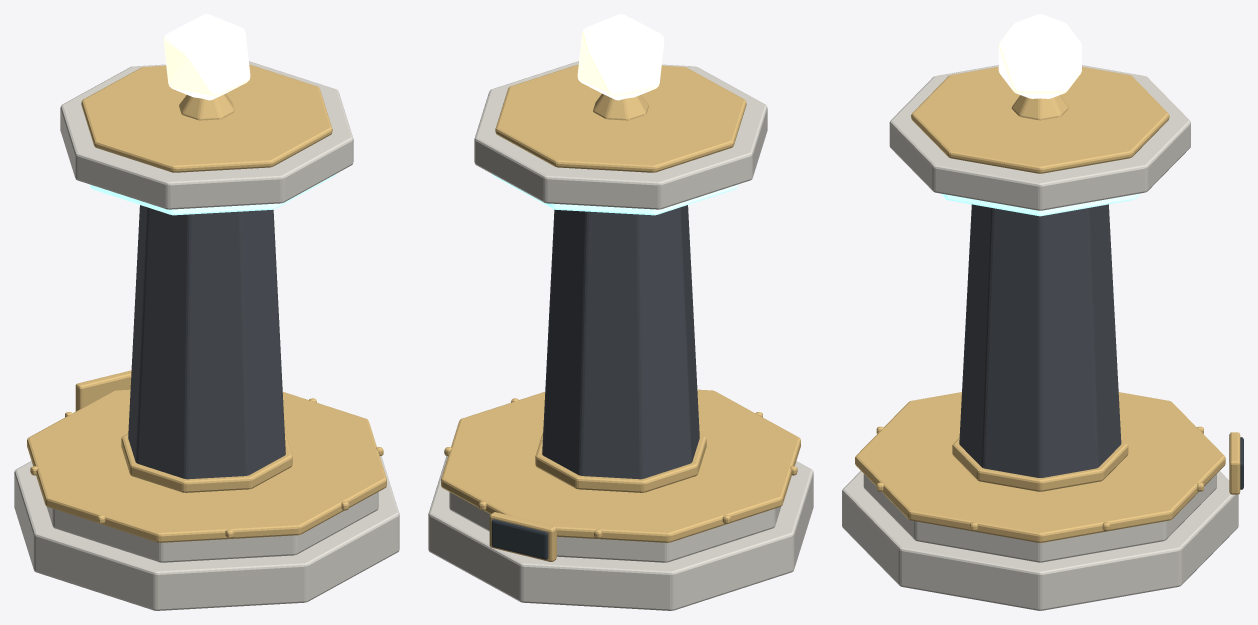
Rendered from hp_room_museum_specimen_plinth.glb.
3 renders of one model, left to right at view 1: azimuth 30°, elevation 25°; view 2: azimuth 150°, elevation 25°; view 3: azimuth 270°, elevation 25°, orthographic.
Parts seen in each view (by area): view 1: specimen_plinth; view 2: specimen_plinth; view 3: specimen_plinth.
Boxes of the visible parts, <box> form: specimen_plinth: <box>14,14,399,610</box>; specimen_plinth: <box>428,14,813,610</box>; specimen_plinth: <box>842,14,1243,610</box>.
Bounding box in the file's own units: 0.9173 × 1.31 × 0.9296.
Materials: 3 (3 with a texture image).
